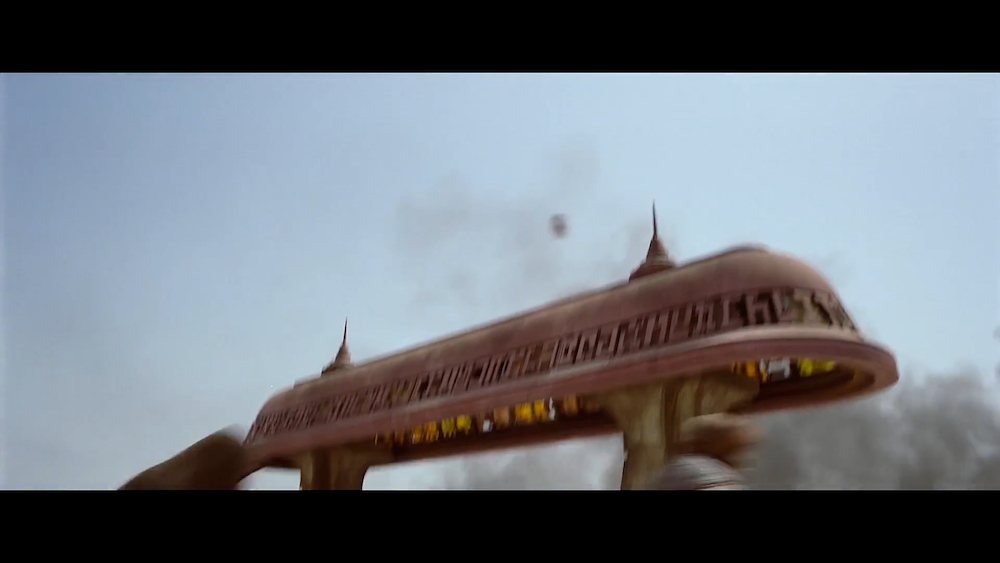Tie Fighter: (548, 215, 570, 240)
